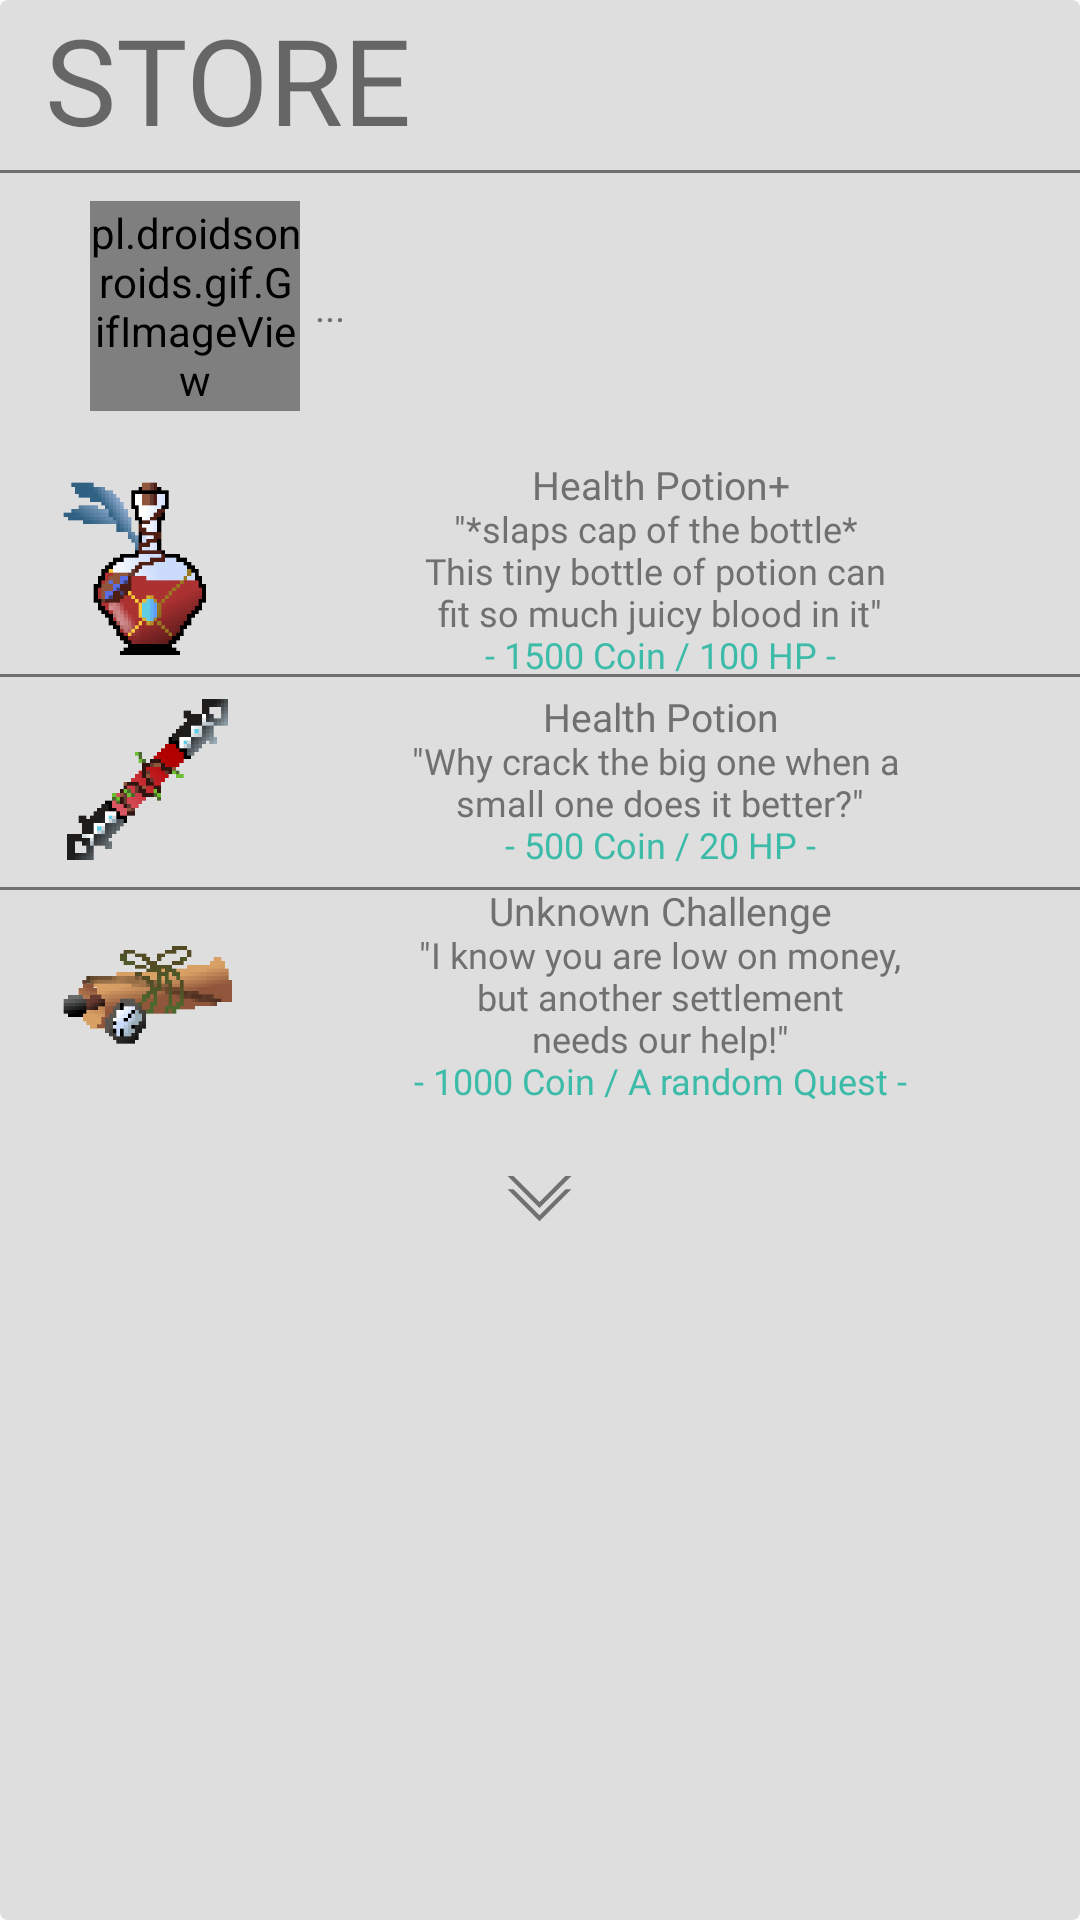

Where icons sit on this 1080×1920 app screen, as (x1, y1, x2, y2):
challenge scroll: (63, 946, 232, 1044)
pull down: (508, 1176, 571, 1221)
